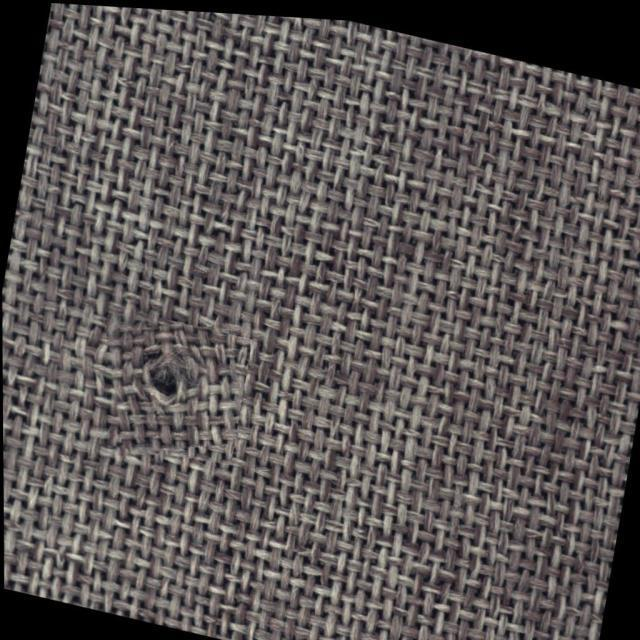hole: (133, 349, 196, 414)
